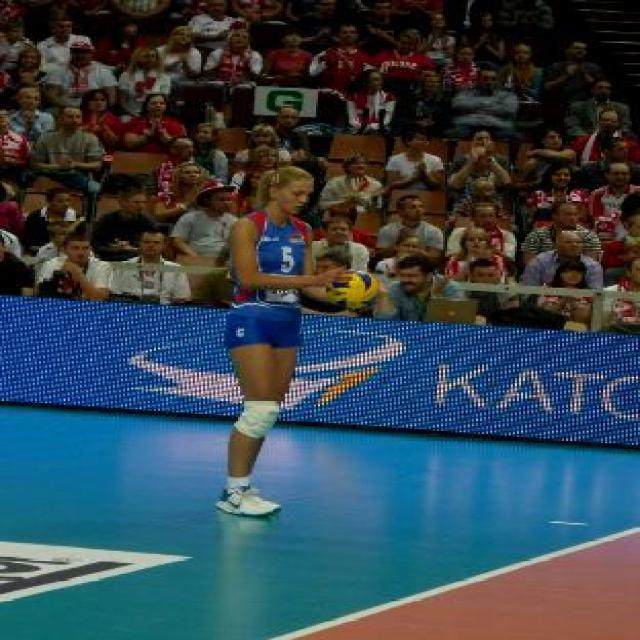volleyball: (326, 271, 378, 311)
